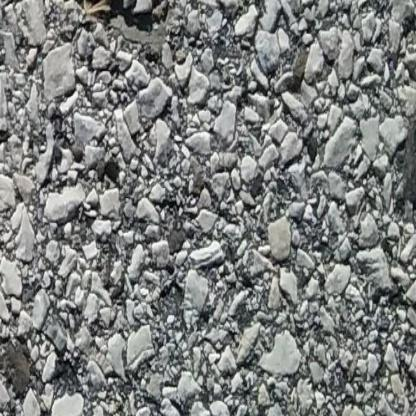Cracks: (18, 0, 192, 27)
